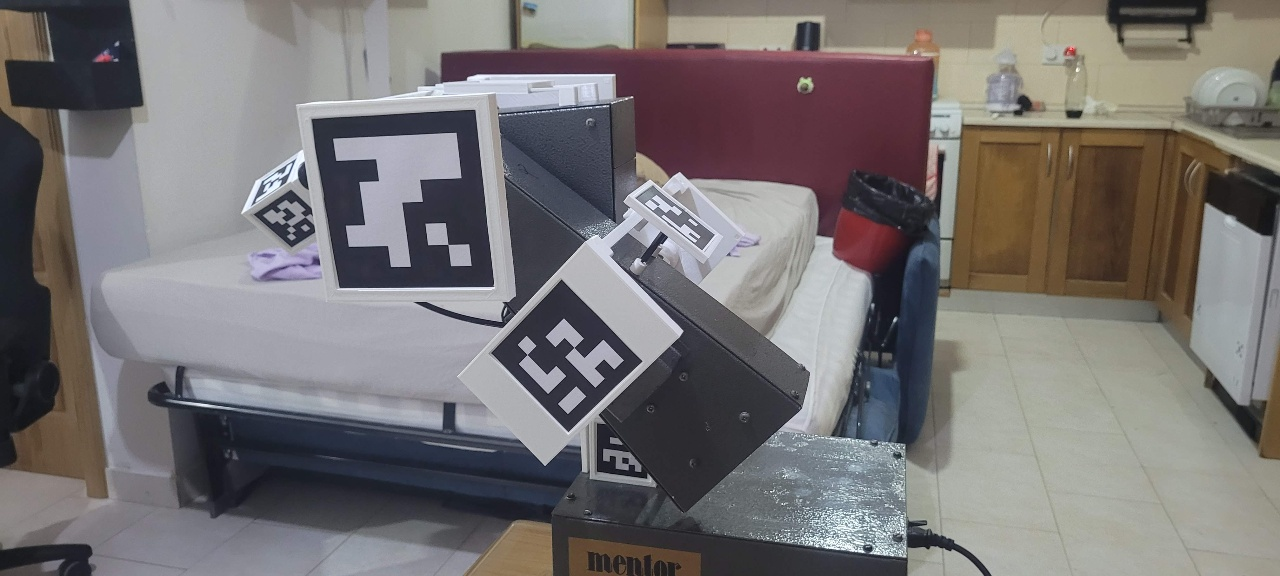Robot: (241, 72, 812, 515)
